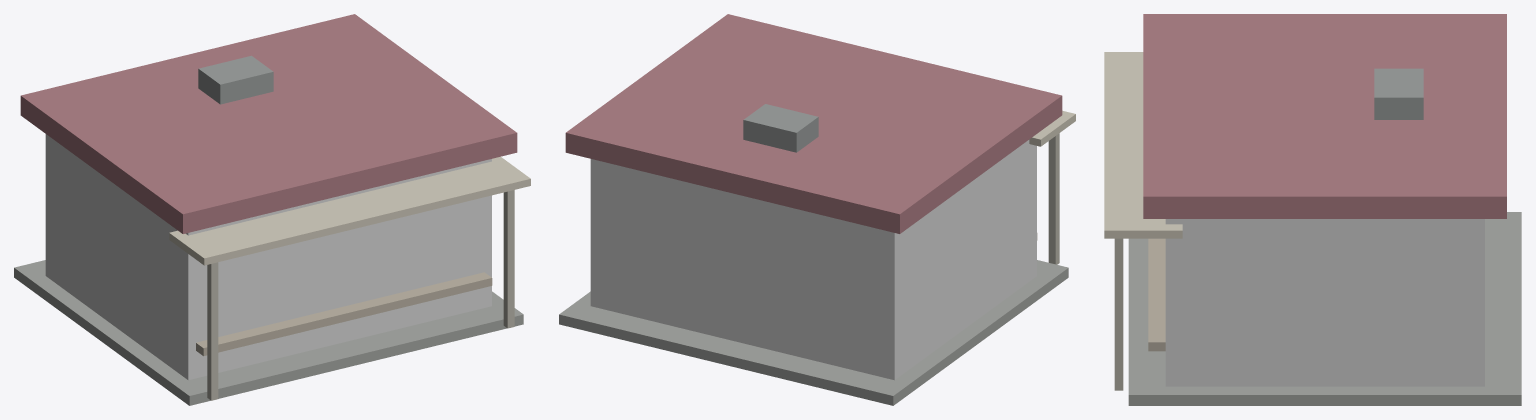
The picture shows the model from 3 angles, left to right: view 1: azimuth 30°, elevation 25°; view 2: azimuth 150°, elevation 25°; view 3: azimuth 270°, elevation 25°; orthographic projection. The views are drawn at different scales.
Visible parts, largest first — view 1: Visual; view 2: Visual; view 3: Visual.
Boxes of the visible parts, x1,y1,x2,y2 form: Visual: [14, 14, 530, 405]; Visual: [559, 14, 1075, 405]; Visual: [1104, 14, 1521, 405].
Bounding box in the file's own units: 8.8 × 5.2 × 8.5.
